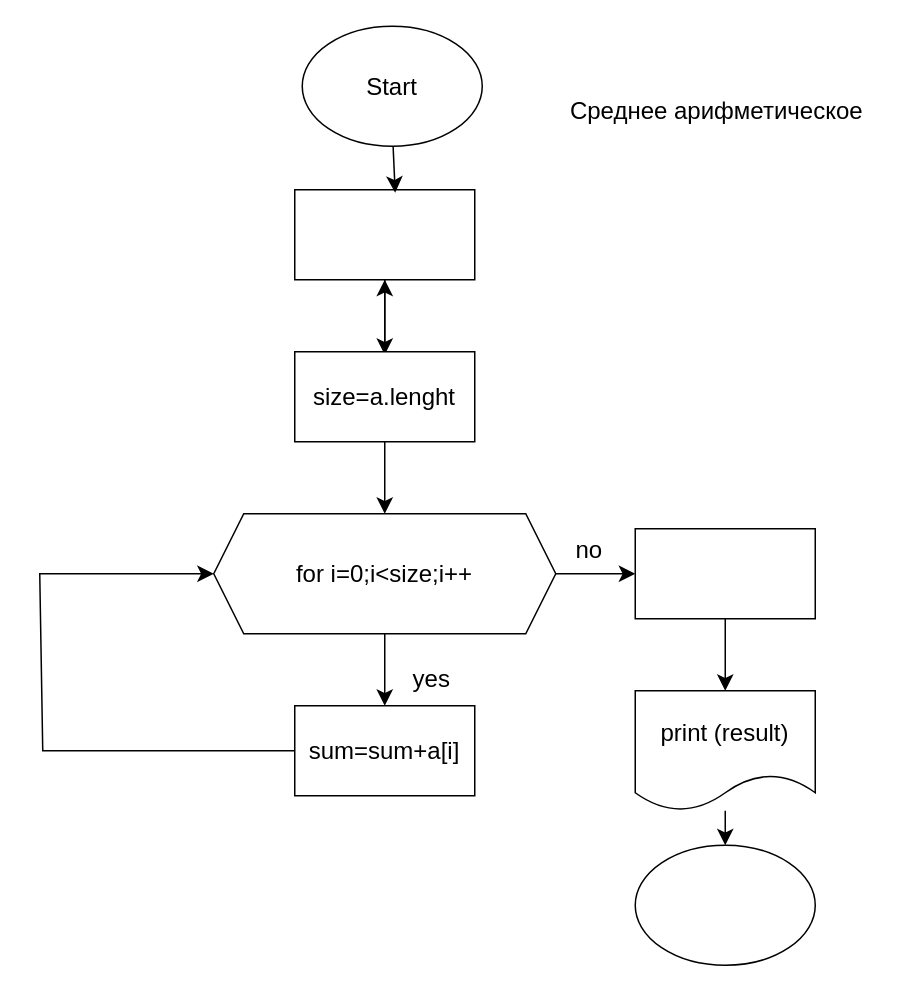
Image size: 902x992. Some labels were removed from this diagram. Each missing label, with the centre of its shape:
"a[] sum=0" belongs at point (384, 234).
"End" belongs at point (724, 904).
"result=sum/size" belongs at point (724, 573).
